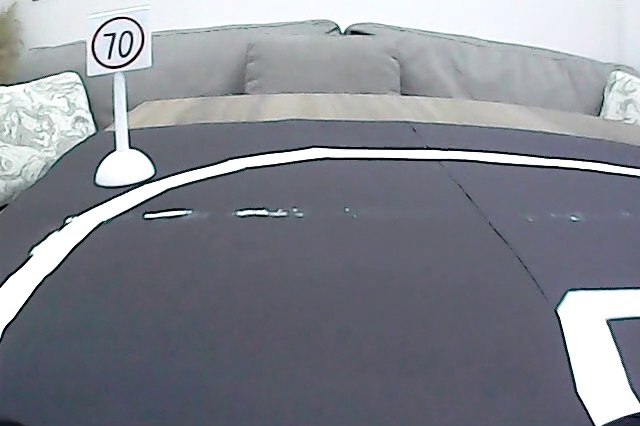speed limit 70: (92, 14, 147, 70)
